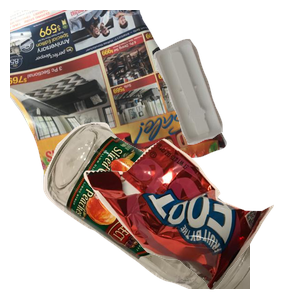glass: (41, 120, 281, 300)
paper: (10, 10, 230, 188)
plastic: (150, 36, 300, 173)
trash: (81, 136, 300, 300)
